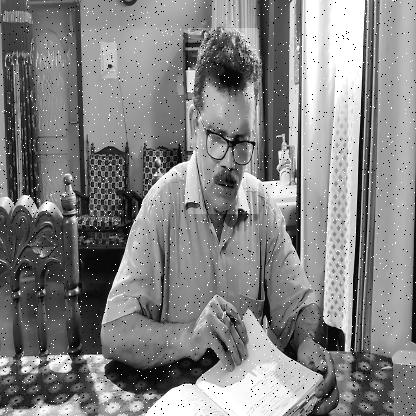Normal: (188, 28, 259, 214)
